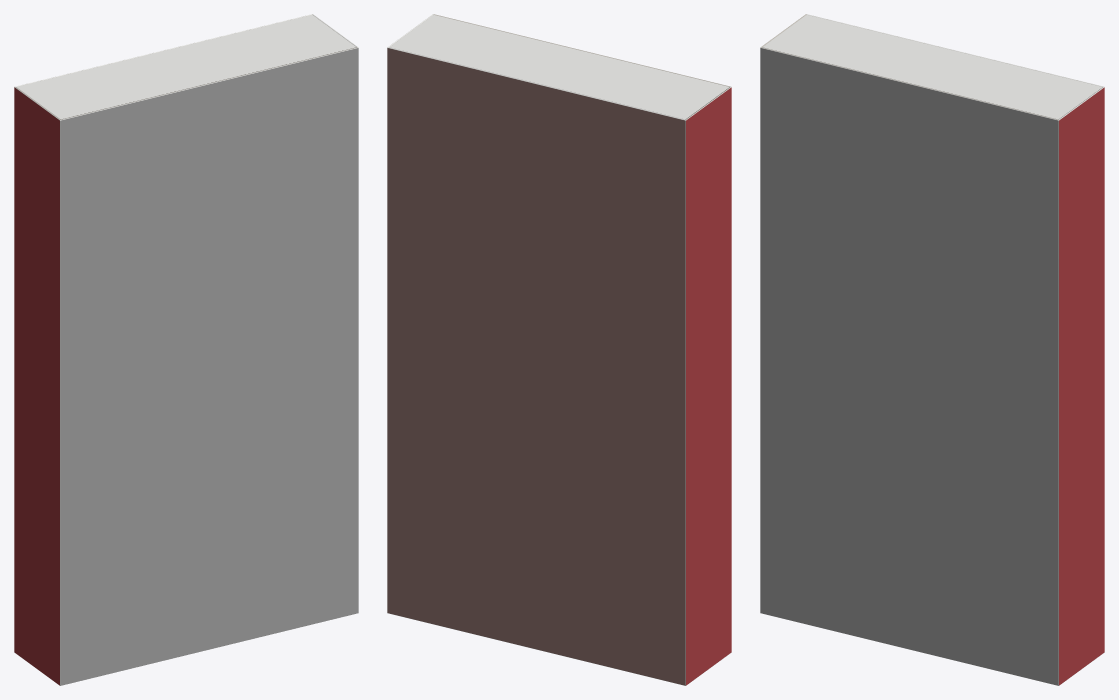
The model's file is sfc_box.glb.
3 renders of one model, left to right at view 1: azimuth 30°, elevation 25°; view 2: azimuth 150°, elevation 25°; view 3: azimuth 330°, elevation 25°, orthographic.
Visible parts, largest first — view 1: artwork_front, Carton sleeve, End closure flap.001; view 2: Carton sleeve, End closure flap.001; view 3: artwork_front, Carton sleeve, End closure flap.001.
Boxes of the visible parts, x1,y1,x2,y2 form: artwork_front: [60, 48, 358, 685]; Carton sleeve: [14, 14, 358, 685]; End closure flap.001: [16, 15, 356, 119]; Carton sleeve: [387, 14, 731, 685]; End closure flap.001: [389, 15, 729, 119]; artwork_front: [760, 48, 1058, 685]; Carton sleeve: [760, 14, 1104, 685]; End closure flap.001: [762, 15, 1102, 119].
Bounding box in the file's own units: 105 × 190 × 28.02.
Materials: 5 (3 with a texture image).
